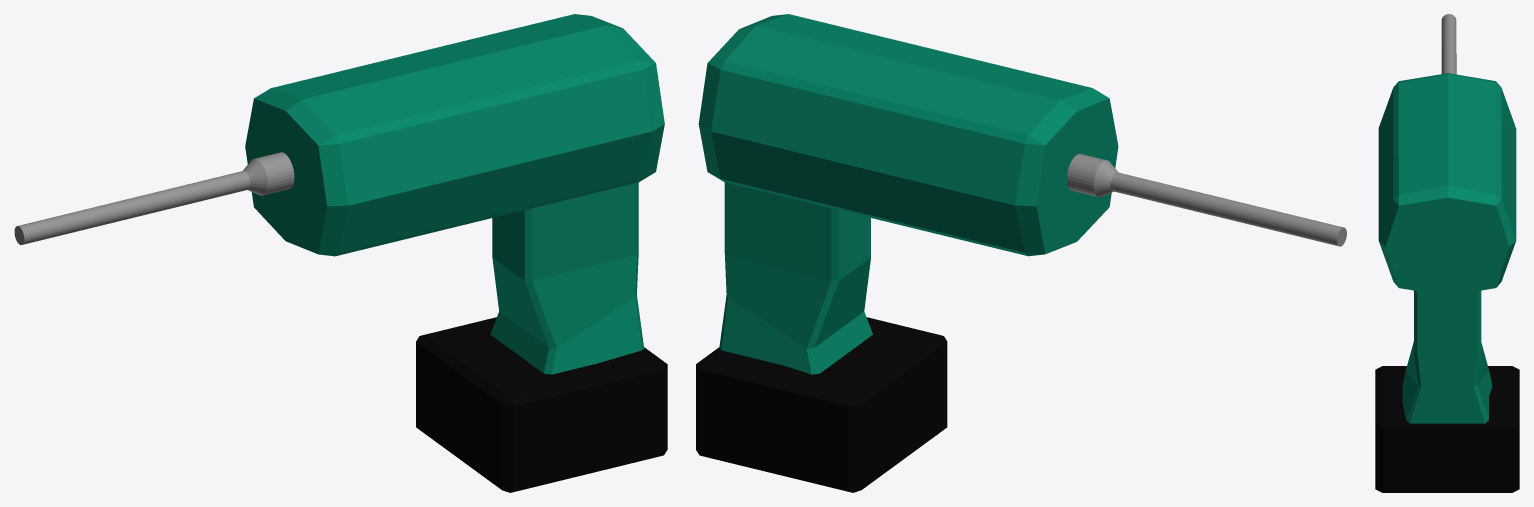
The model's file is Drill.fbx.
3 views of the same model, side by side, from view 1: azimuth 30°, elevation 25°; view 2: azimuth 150°, elevation 25°; view 3: azimuth 270°, elevation 25° (orthographic). The views are drawn at different scales.
Visible parts, largest first — view 1: Drill; view 2: Drill; view 3: Drill.
Part boxes in pixels (<box>): Drill: <box>14,14,667,492</box>; Drill: <box>696,14,1346,492</box>; Drill: <box>1375,14,1519,492</box>.
Bounding box in the file's own units: 366 × 100 × 233.
